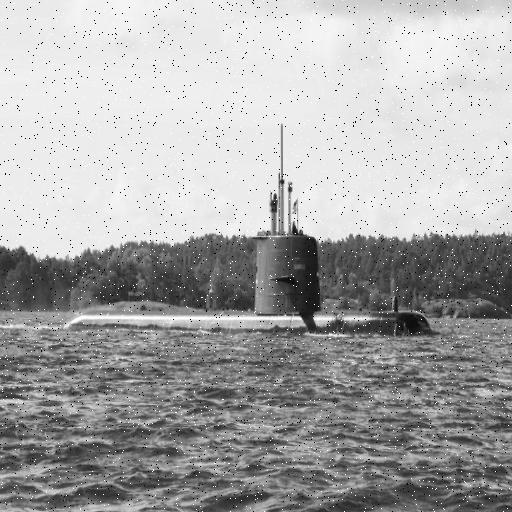submarine: (70, 121, 438, 339)
